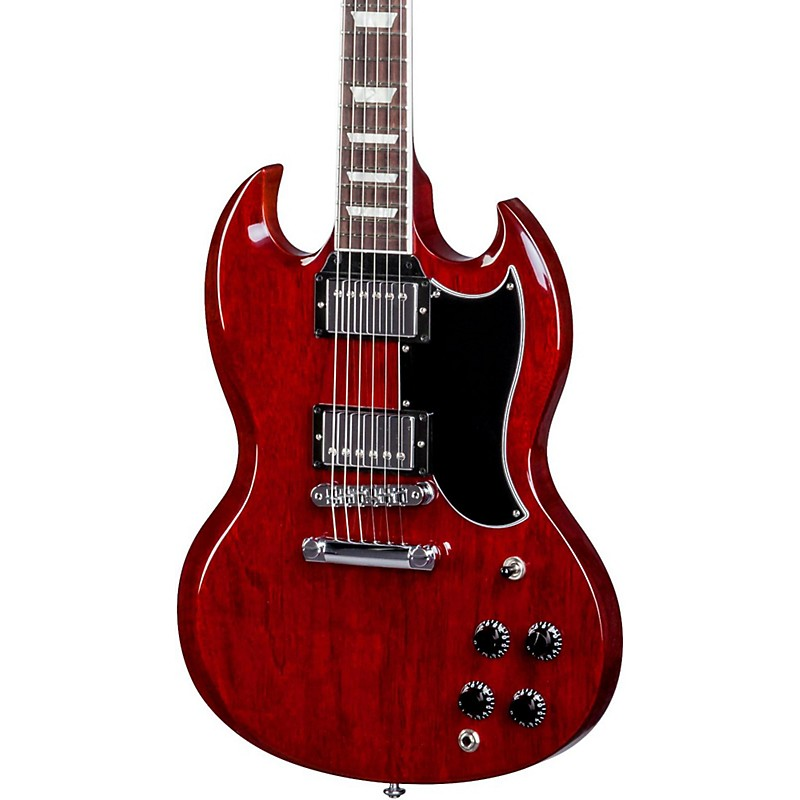ElectricGuitar: (169, 5, 632, 796)
